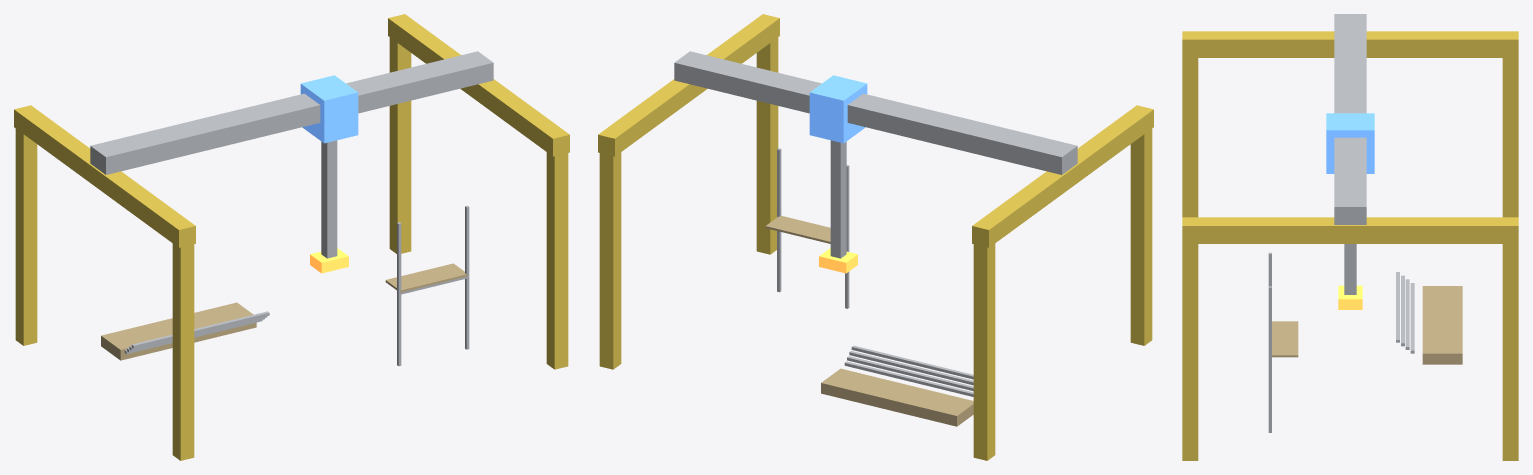
Rendered from wing-robot-scaffold-bay.glb.
3 views of the same model, side by side, from view 1: azimuth 30°, elevation 25°; view 2: azimuth 150°, elevation 25°; view 3: azimuth 270°, elevation 25° (orthographic).
Parts seen in each view (by area): view 1: Robot · pick-and-place gantry; view 2: Robot · pick-and-place gantry; view 3: Robot · pick-and-place gantry.
Boxes of the visible parts, <box> form: Robot · pick-and-place gantry: <box>14,14,569,460</box>; Robot · pick-and-place gantry: <box>598,14,1153,460</box>; Robot · pick-and-place gantry: <box>1182,14,1518,460</box>.
Bounding box in the file's own units: 11.5 × 7.2 × 8.4.
